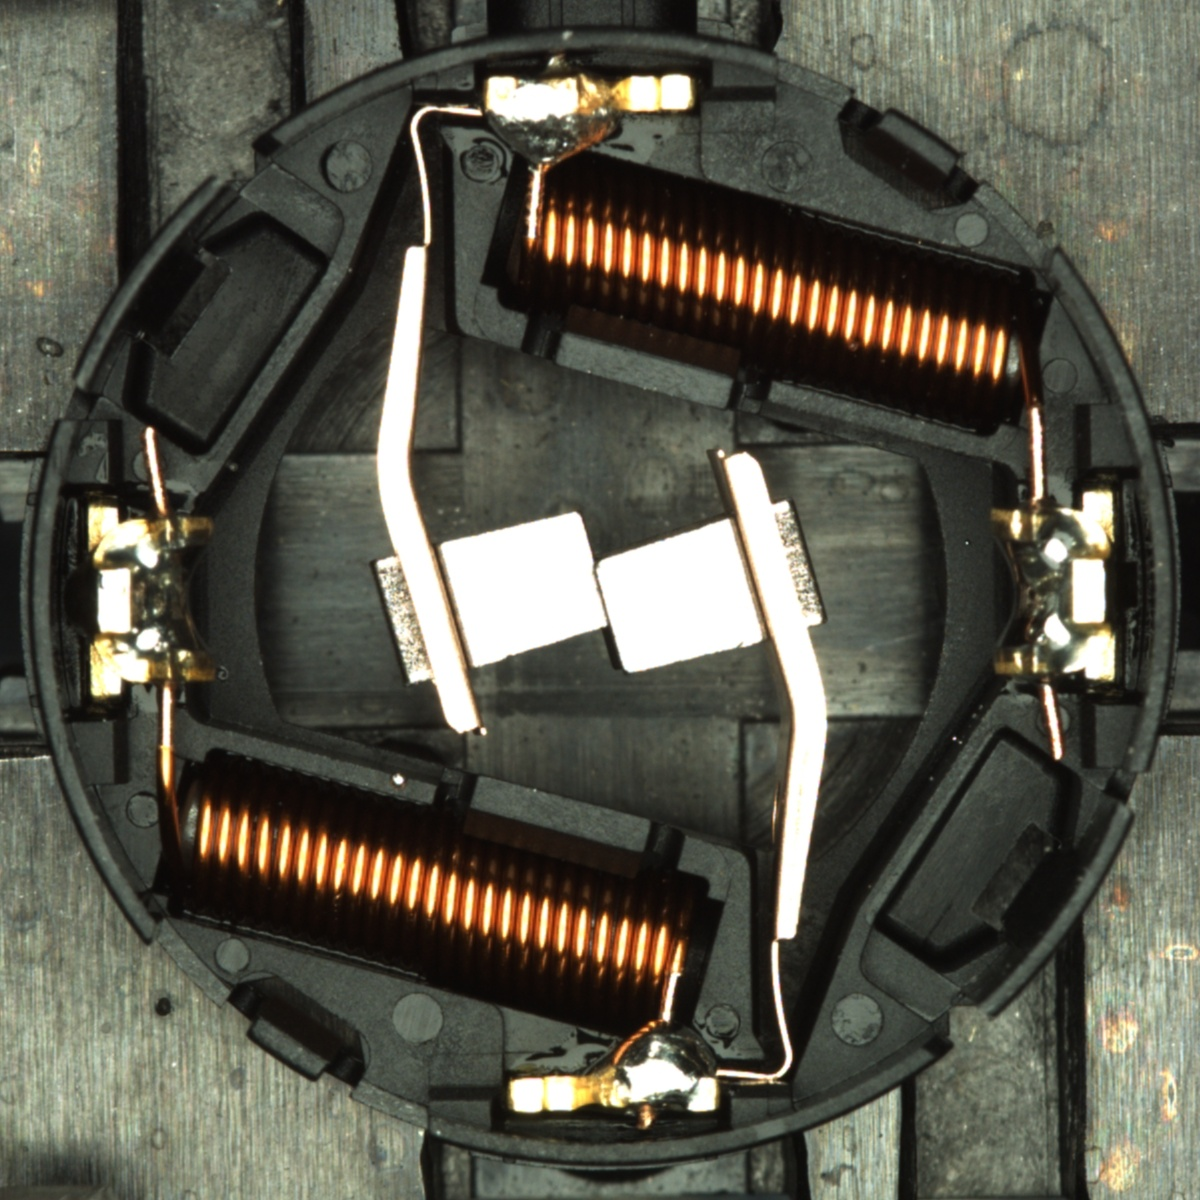1: (712, 929, 942, 1153), (254, 31, 482, 255)
2: (712, 31, 942, 255), (254, 929, 482, 1153)
3: (24, 255, 254, 480), (942, 704, 1170, 929)
4: (254, 255, 482, 480), (712, 704, 942, 929)
5: (482, 143, 712, 368), (482, 816, 712, 1041)
6: (712, 255, 942, 480), (254, 704, 482, 929)
7: (942, 255, 1170, 480), (24, 704, 254, 929)
bui_chi: (390, 770, 408, 789)
cacbon: (392, 498, 803, 686)
chau_dien: (984, 488, 1123, 688), (80, 499, 220, 698)
tay_choi: (482, 70, 700, 171), (507, 1018, 723, 1116)
thanh_de: (954, 787, 1142, 1032), (59, 164, 245, 404)
